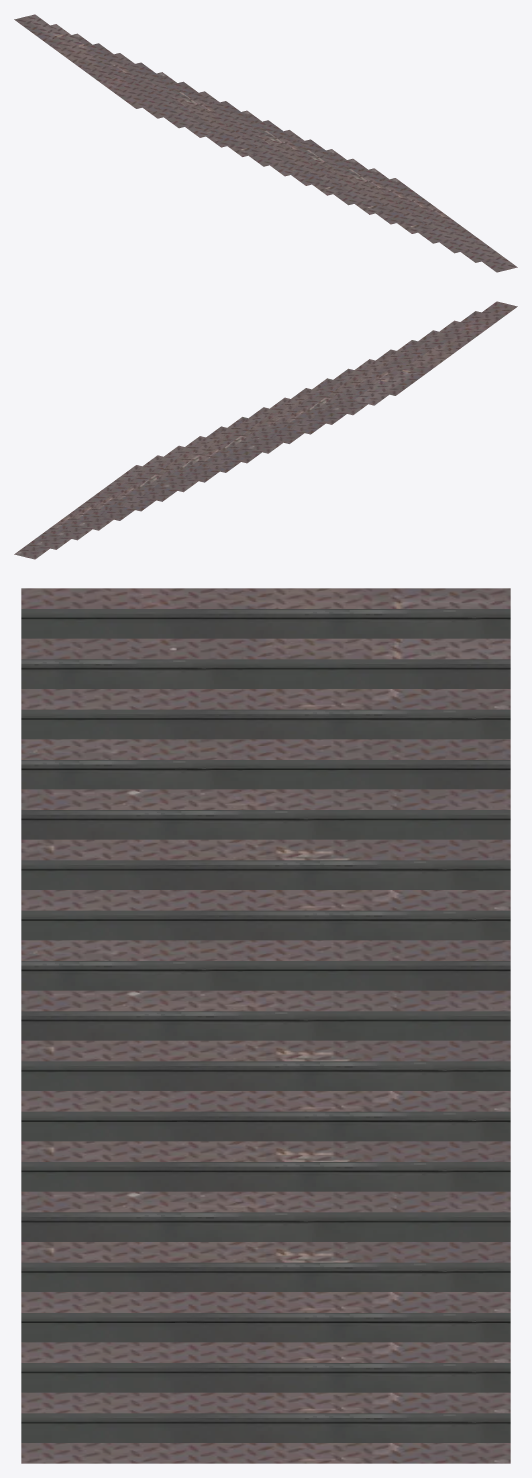
3 views of the same model, one above another, from view 1: azimuth 30°, elevation 25°; view 2: azimuth 150°, elevation 25°; view 3: azimuth 270°, elevation 25° (orthographic). The views are drawn at different scales.
Parts seen in each view (by area): view 1: body0_model0_lod0_mesh0; view 2: body0_model0_lod0_mesh0; view 3: body0_model0_lod0_mesh1, body0_model0_lod0_mesh0.
Part boxes in pixels (left/top/right/bottom): body0_model0_lod0_mesh0: left=14, top=14, right=517, bottom=272; body0_model0_lod0_mesh0: left=14, top=301, right=517, bottom=559; body0_model0_lod0_mesh1: left=21, top=609, right=510, bottom=1442; body0_model0_lod0_mesh0: left=21, top=588, right=510, bottom=1463.
Size of the model in its own units: 216 by 136 by 120.
2 materials, 2 textured.
